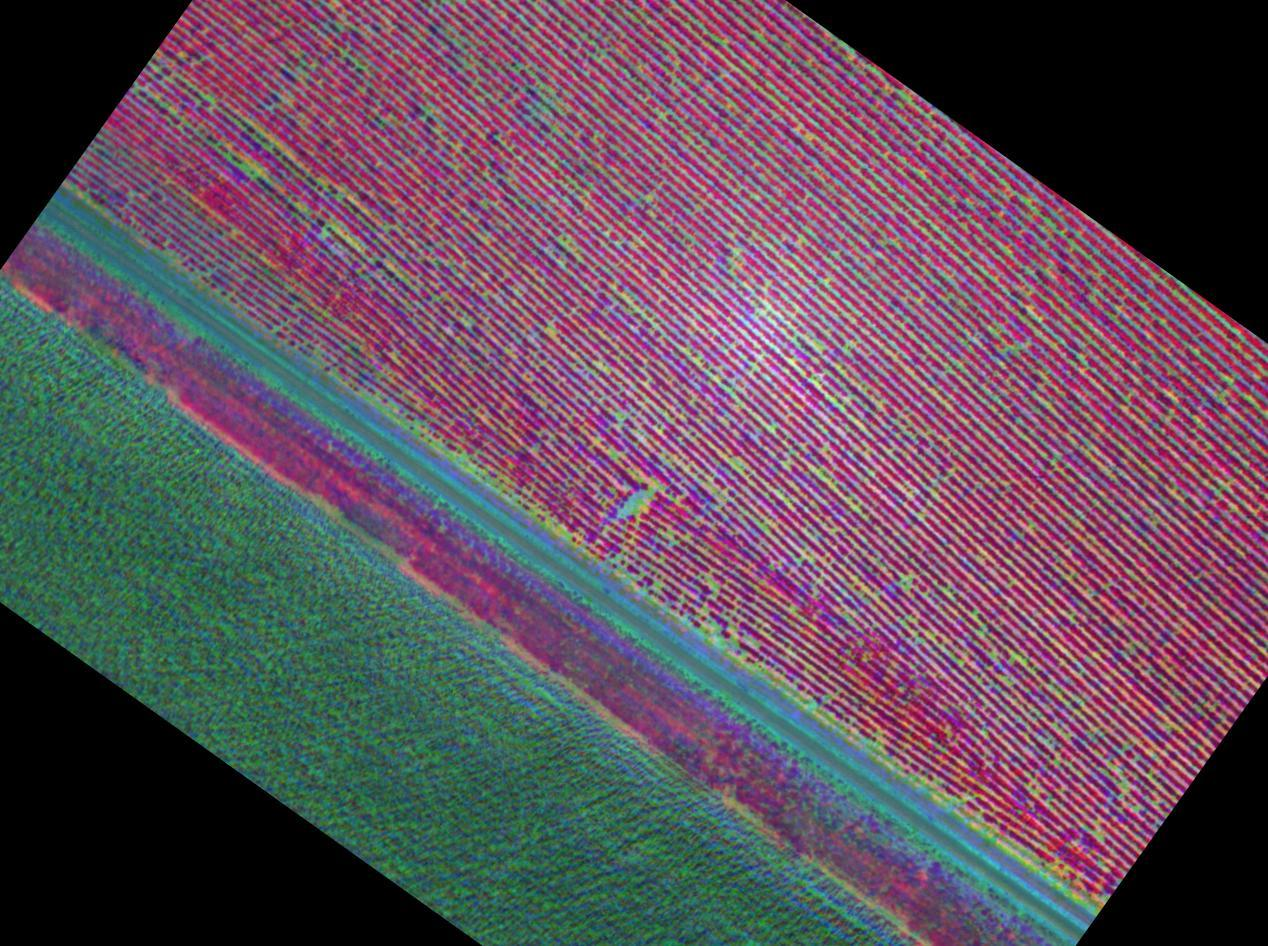dc: (634, 494, 641, 500), (623, 508, 628, 514), (905, 578, 911, 583), (617, 412, 622, 417), (1012, 654, 1016, 659)
